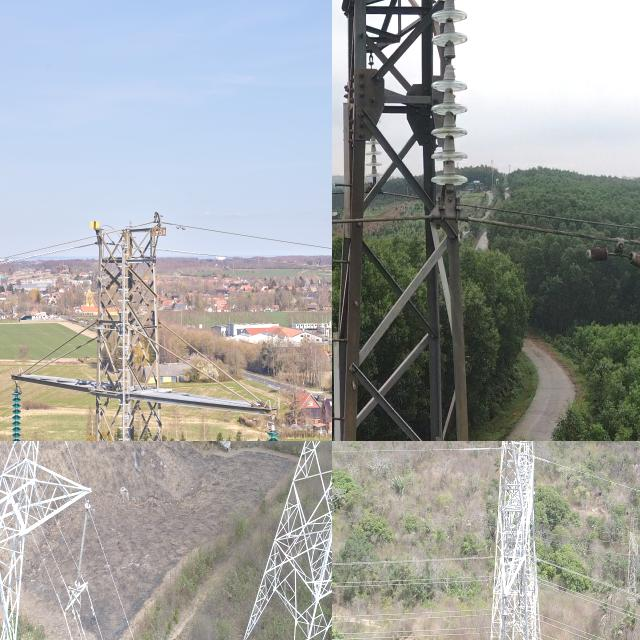杆塔: (332, 0, 494, 441), (237, 441, 332, 640), (0, 441, 90, 640), (90, 217, 164, 441), (496, 441, 539, 640)
正常电缆: (164, 320, 257, 402), (177, 218, 332, 259), (162, 341, 241, 403), (511, 213, 640, 249), (541, 452, 640, 498), (23, 319, 95, 373), (0, 232, 96, 269), (33, 334, 97, 376), (332, 624, 487, 640), (332, 444, 491, 459)
正常绝缘子: (425, 0, 471, 217), (74, 496, 91, 592), (8, 378, 24, 441)
绝缘子破损: (442, 49, 457, 75)
